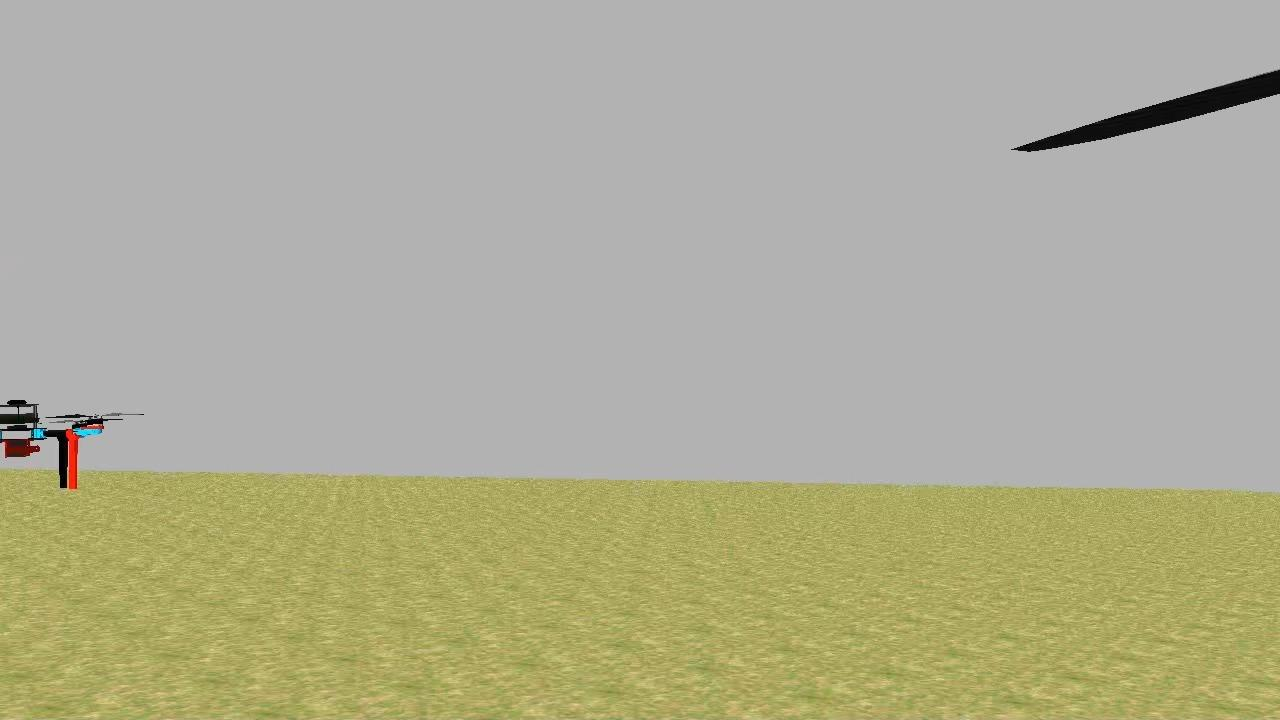UAV: (0, 398, 116, 496)
